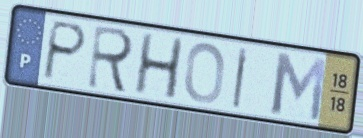H: (131, 31, 186, 103)
I: (230, 44, 251, 111)
M: (269, 49, 329, 124)
O: (182, 40, 228, 106)
P: (39, 18, 90, 83)
R: (84, 22, 137, 97)
